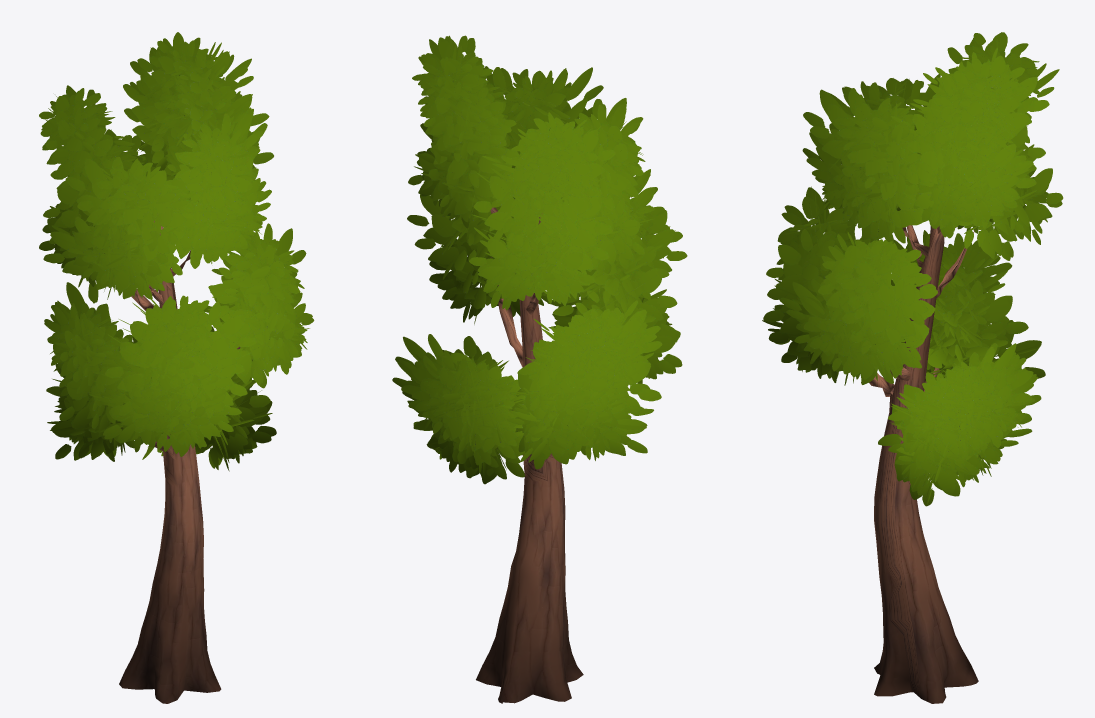
File: CommonTree_3.glb
3 renders of one model, left to right at view 1: azimuth 30°, elevation 25°; view 2: azimuth 150°, elevation 25°; view 3: azimuth 270°, elevation 25°, orthographic. The views are drawn at different scales.
Parts seen in each view (by area): view 1: CommonTree_3; view 2: CommonTree_3; view 3: CommonTree_3.
Boxes of the visible parts, bbox=[...] form: CommonTree_3: bbox=[39, 32, 314, 703]; CommonTree_3: bbox=[392, 35, 687, 703]; CommonTree_3: bbox=[762, 32, 1063, 703].
Bounding box in the file's own units: 4.45 × 9.57 × 4.42.
2 materials, 2 textured.
